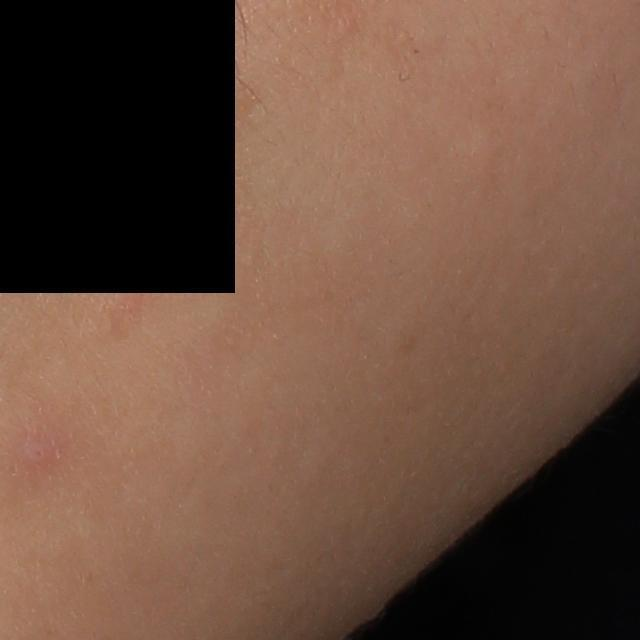papule: (10, 429, 54, 471)
